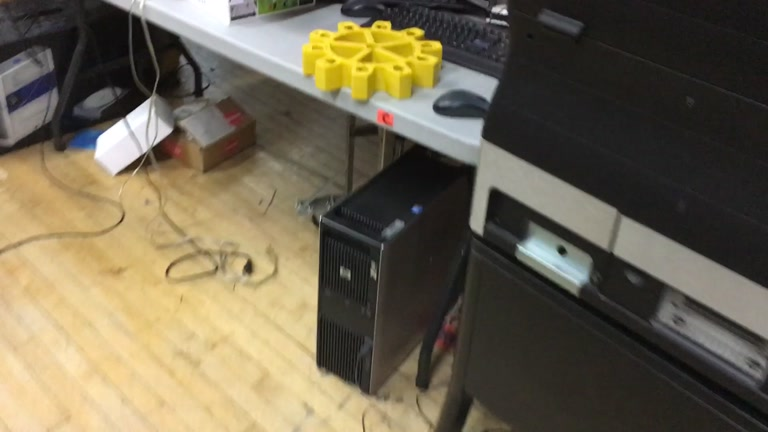gear: (300, 18, 444, 103)
